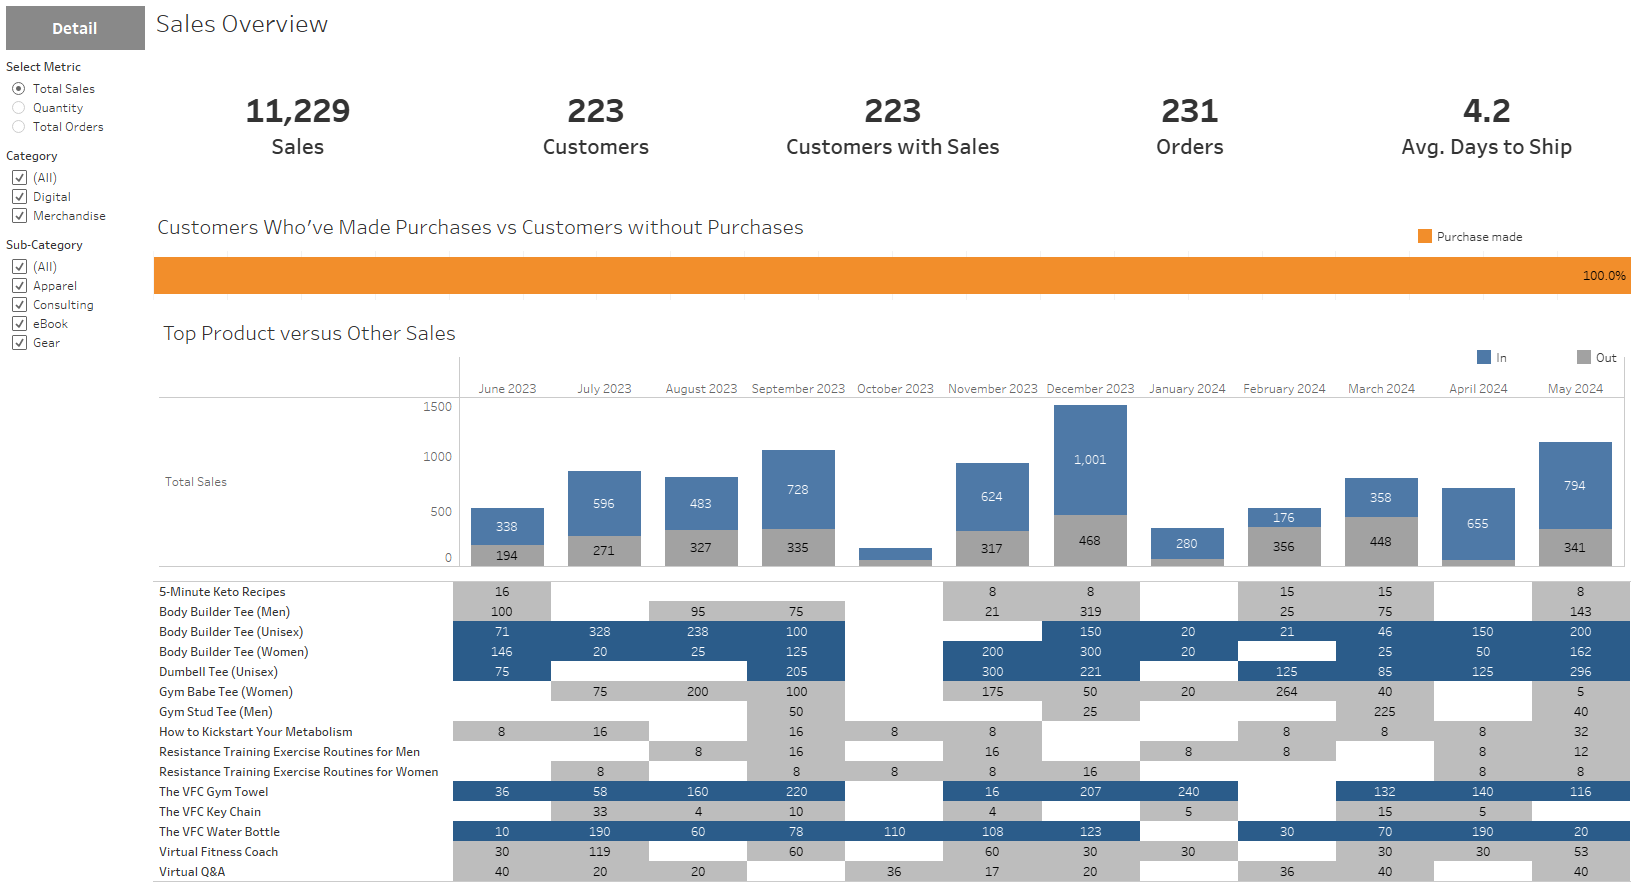

The page's visual inventory and layout, read from the dashboard file:
{"tool":"tableau","page":{"name":"Sales Overview","canvas":[1649,900],"ordinal":1},"visuals":[{"type":"dashboard-object","box":[8,8,147,52]},{"type":"title","box":[155,8,1486,42]},{"type":"worksheet","title":"KPI: Sales","mark":"Automatic","box":[155,50,298,160]},{"type":"worksheet","title":"KPI: Customers","mark":"Automatic","box":[453,50,297,160]},{"type":"worksheet","title":"KPI: Customers with Sales","mark":"Automatic","box":[750,50,297,160]},{"type":"worksheet","title":"KPI: Orders","mark":"Automatic","box":[1047,50,297,160]},{"type":"worksheet","title":"KPI: Avg. Days to Ship","mark":"Automatic","box":[1344,50,297,160]},{"type":"parameter","param":"[Parameters].[Parameter 1]","box":[8,60,147,89]},{"type":"filter","title":"KPI: Sales","param":"[federated.144ql6y06qqup71fwpx6i1rcpmyq].[none:Category:nk]","box":[8,149,147,89]},{"type":"worksheet","title":"Customer Status","mark":"Automatic","cols":["Id"],"box":[155,210,1486,100]},{"type":"filter","title":"KPI: Sales","param":"[federated.144ql6y06qqup71fwpx6i1rcpmyq].[none:Sub-Category:nk]","box":[8,238,147,127]},{"type":"worksheet","title":"High-Level Products","mark":"Bar","rows":["Conditional Metrics (copy)_1373316459504615432","Calculation_22799520991793177"],"cols":["Order Date"],"box":[155,310,1486,273]},{"type":"worksheet","title":"Low-Level Products","mark":"Square","rows":["Product Name"],"cols":["Order Date"],"box":[155,583,1486,309]}]}

Visuals, with their boxes in screenshot pixels (x1, y1, x2, y2), scaled from the page's 1649x900 canvas onto the 1635x887 screenshot:
dashboard-object: crop(8, 8, 154, 59)
title: crop(154, 8, 1627, 49)
"KPI: Sales" worksheet: crop(154, 49, 449, 207)
"KPI: Customers" worksheet: crop(449, 49, 744, 207)
"KPI: Customers with Sales" worksheet: crop(744, 49, 1038, 207)
"KPI: Orders" worksheet: crop(1038, 49, 1333, 207)
"KPI: Avg. Days to Ship" worksheet: crop(1333, 49, 1627, 207)
parameter: crop(8, 59, 154, 147)
"KPI: Sales" filter: crop(8, 147, 154, 235)
"Customer Status" worksheet: crop(154, 207, 1627, 306)
"KPI: Sales" filter: crop(8, 235, 154, 360)
"High-Level Products" worksheet (Bar marks): crop(154, 306, 1627, 575)
"Low-Level Products" worksheet (Square marks): crop(154, 575, 1627, 879)
